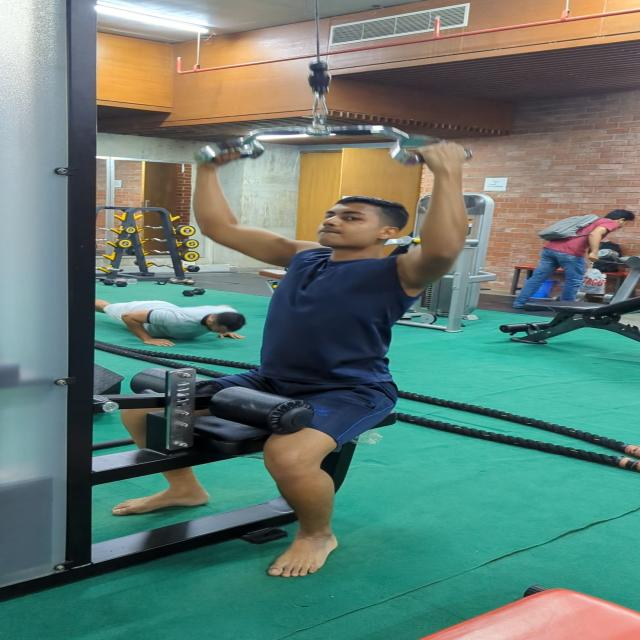Normal_LatPulldown: (110, 135, 480, 587)
